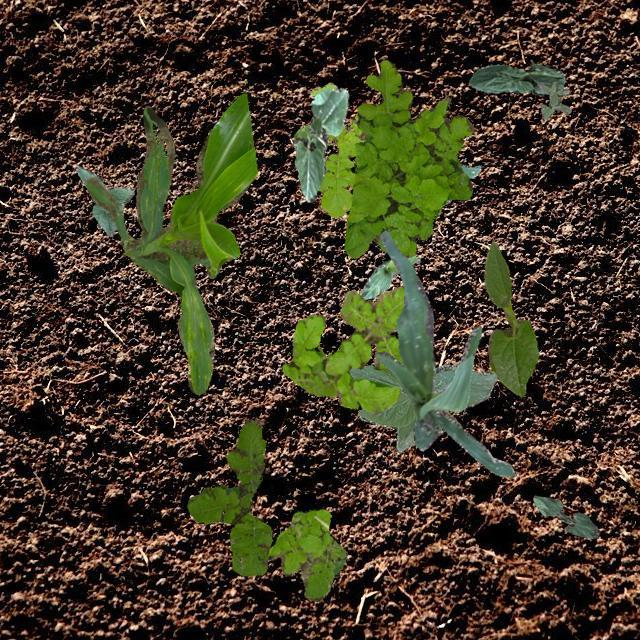crop: (85, 93, 256, 394), (376, 230, 514, 476), (348, 364, 496, 451), (484, 240, 536, 396), (292, 86, 348, 202), (74, 166, 132, 236), (468, 62, 564, 94), (532, 494, 598, 538), (358, 254, 419, 298)
weed: (343, 59, 472, 258), (282, 284, 404, 412), (186, 418, 272, 574), (292, 82, 368, 216), (266, 508, 346, 600), (536, 80, 570, 118), (456, 162, 480, 176)
